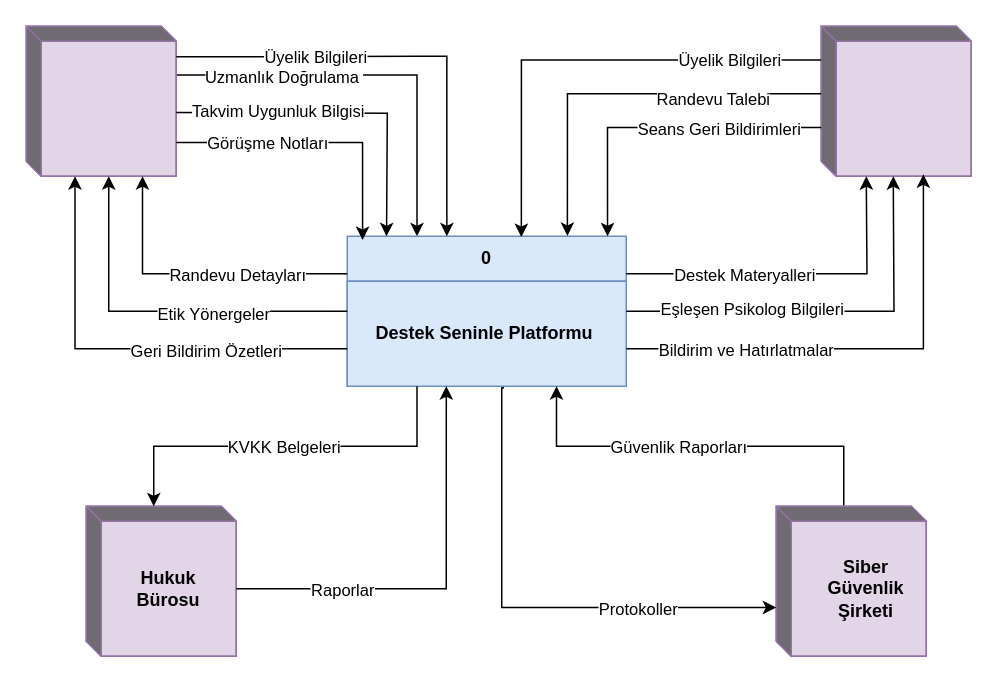
Some shapes in this 998 by 683 pixel diagram are drawn without their labels. Here are the shapes that lost their labels. From the top down, the box of each, then its label:
(25, 25, 176, 176): Gönüllü Psikolog
(820, 25, 971, 176): Öğrenci
